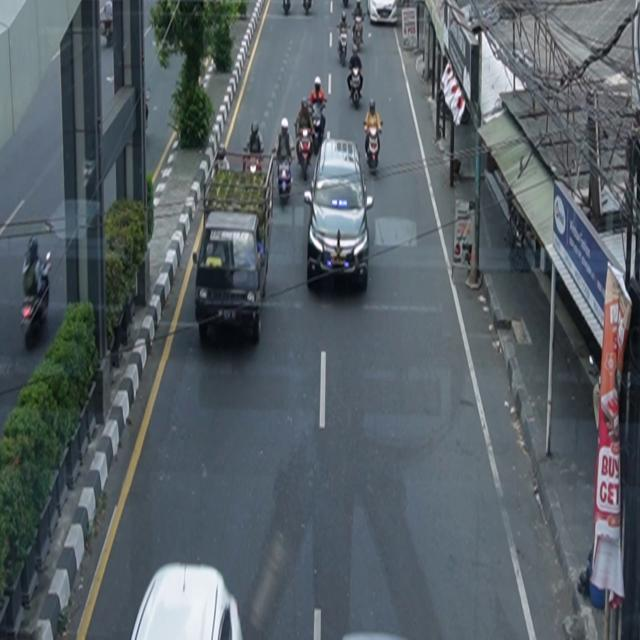car: (304, 138, 375, 292), (131, 563, 244, 640), (367, 1, 398, 26)
truck: (193, 150, 276, 345)
